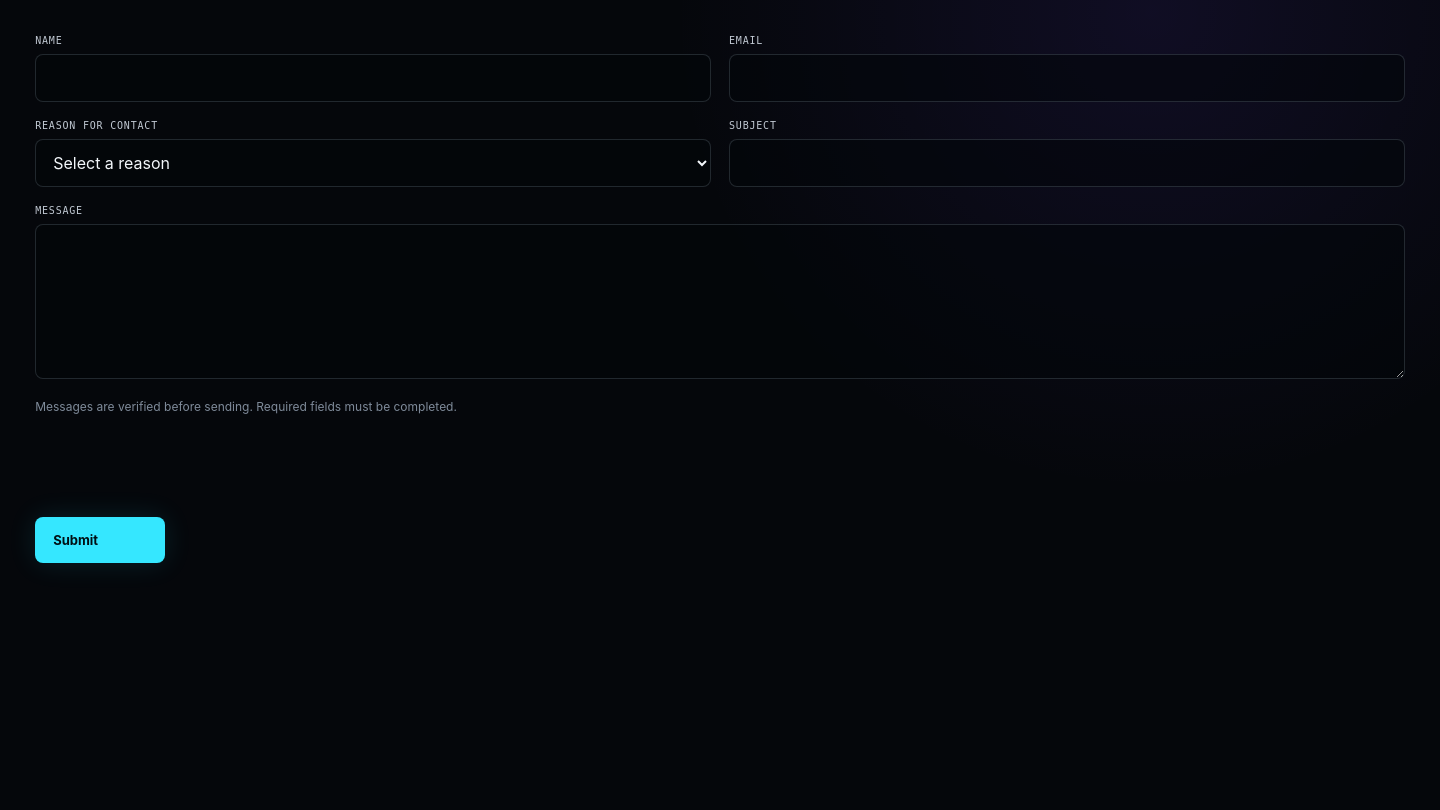
Scenario: ContactForm › normalises values and prevents duplicate in-flight requests
Type "  Paul Tey  " into the field labelled "Name" at {"x": 373, "y": 78}, box x1=35 y1=54 x2=711 y2=102
Type "paul@example.com" into the field labelled "Email" at {"x": 1067, "y": 78}, box x1=729 y1=54 x2=1405 y2=102
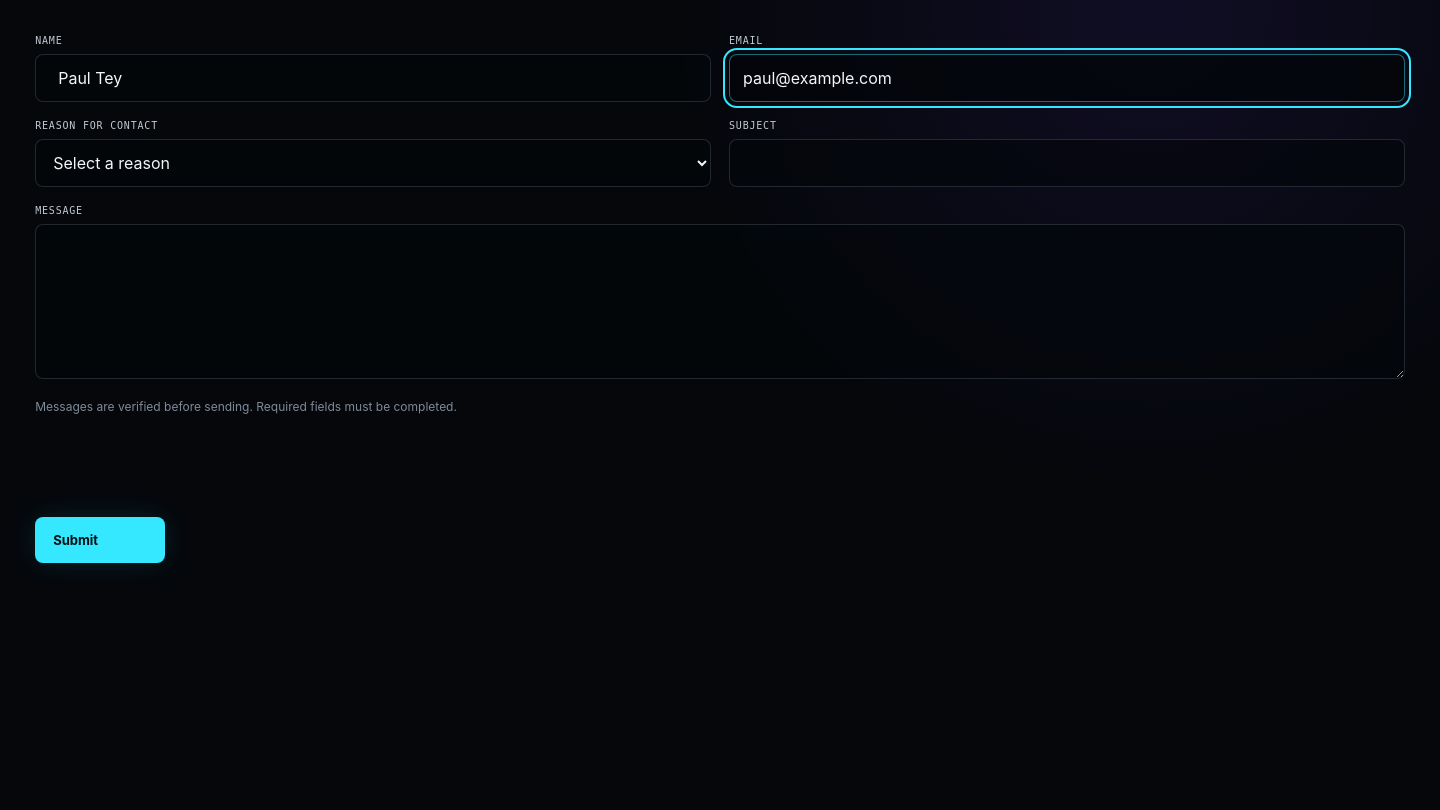
Select "Technical discussion" in the dropdown labelled "Reason for contact" at {"x": 373, "y": 163}, box x1=35 y1=139 x2=711 y2=187
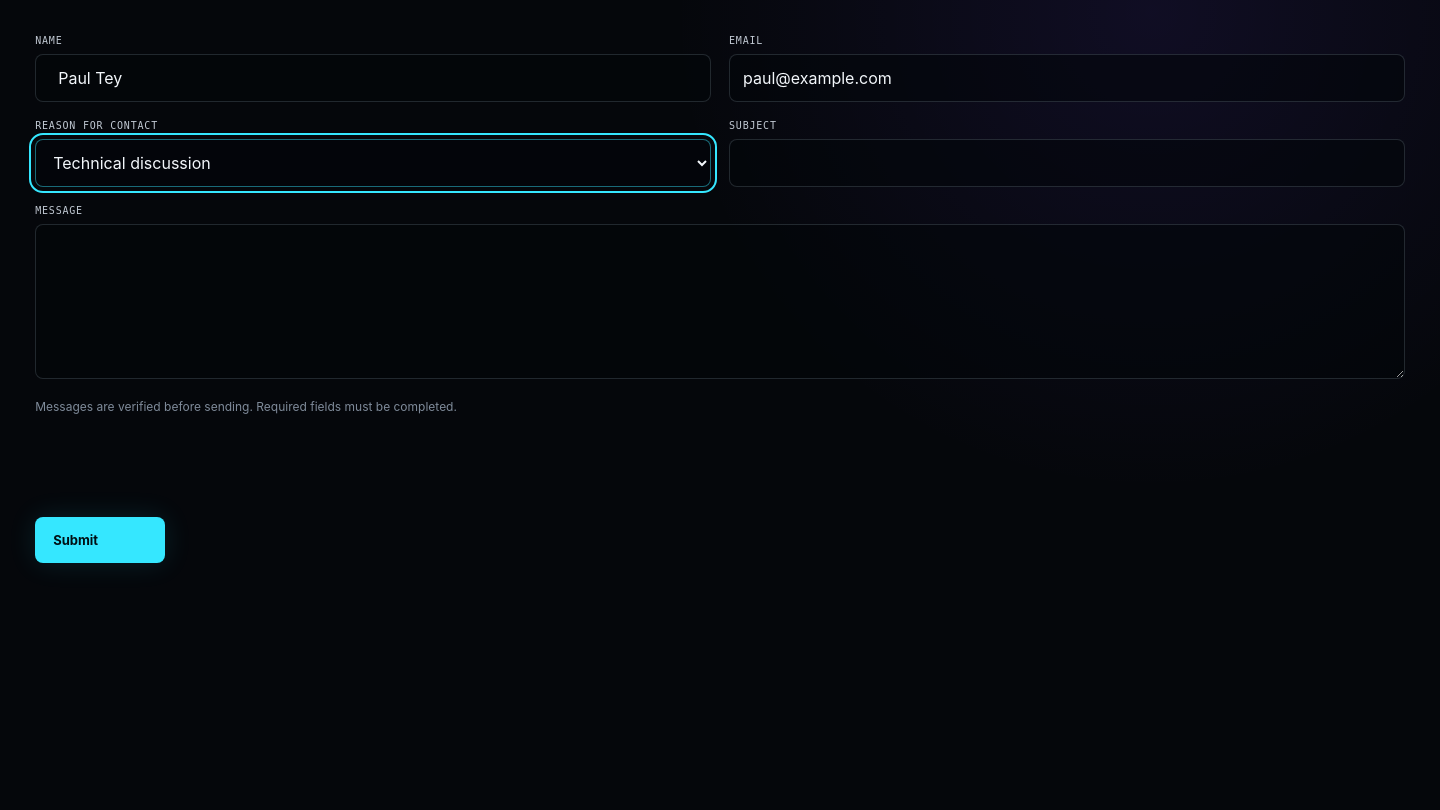
Type "  Portfolio question  " into the field labelled "Subject" at {"x": 1067, "y": 163}, box x1=729 y1=139 x2=1405 y2=187
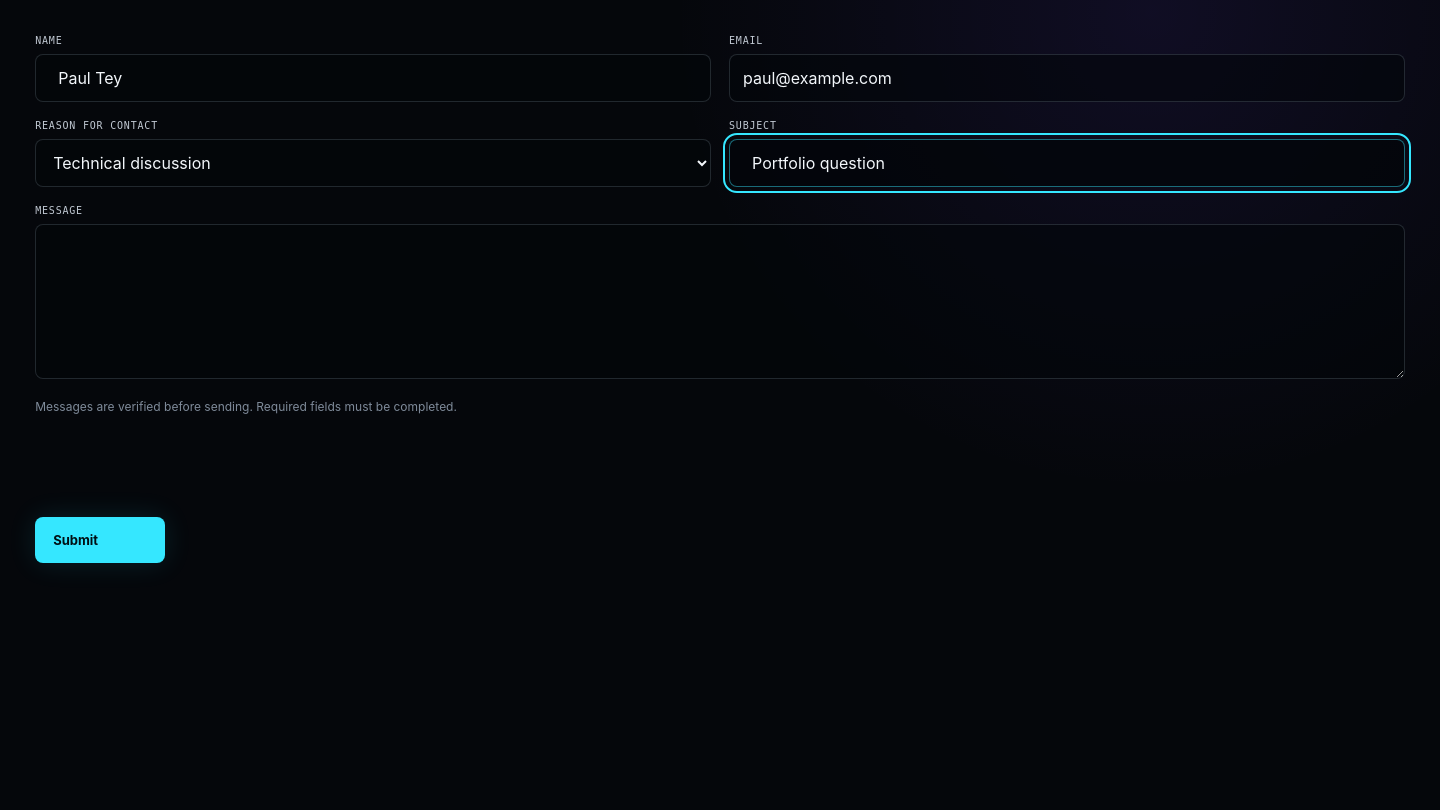
Type "  Test message  " into the text box labelled "Message" at {"x": 720, "y": 302}, box x1=35 y1=224 x2=1405 y2=379
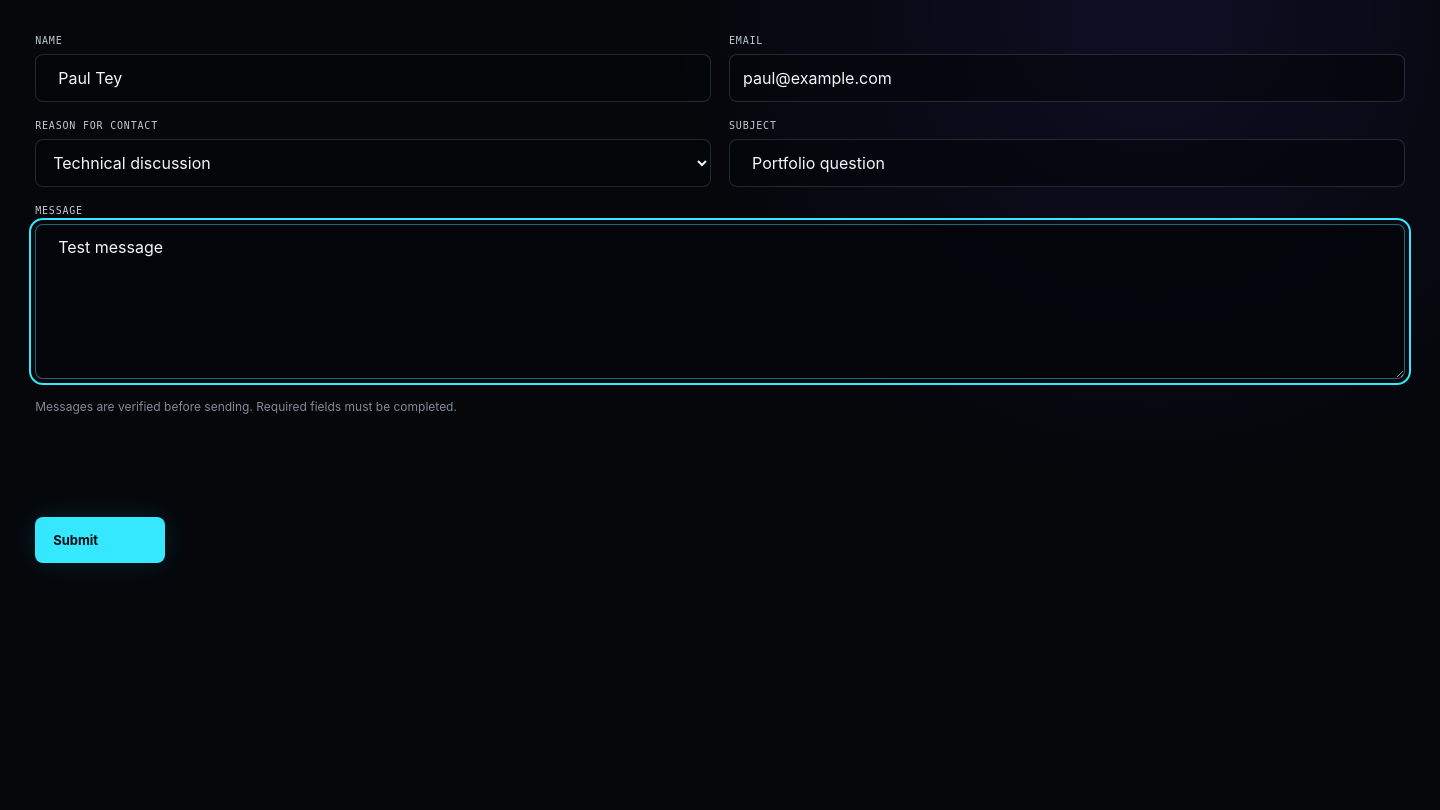
Submit the form named "Submit"
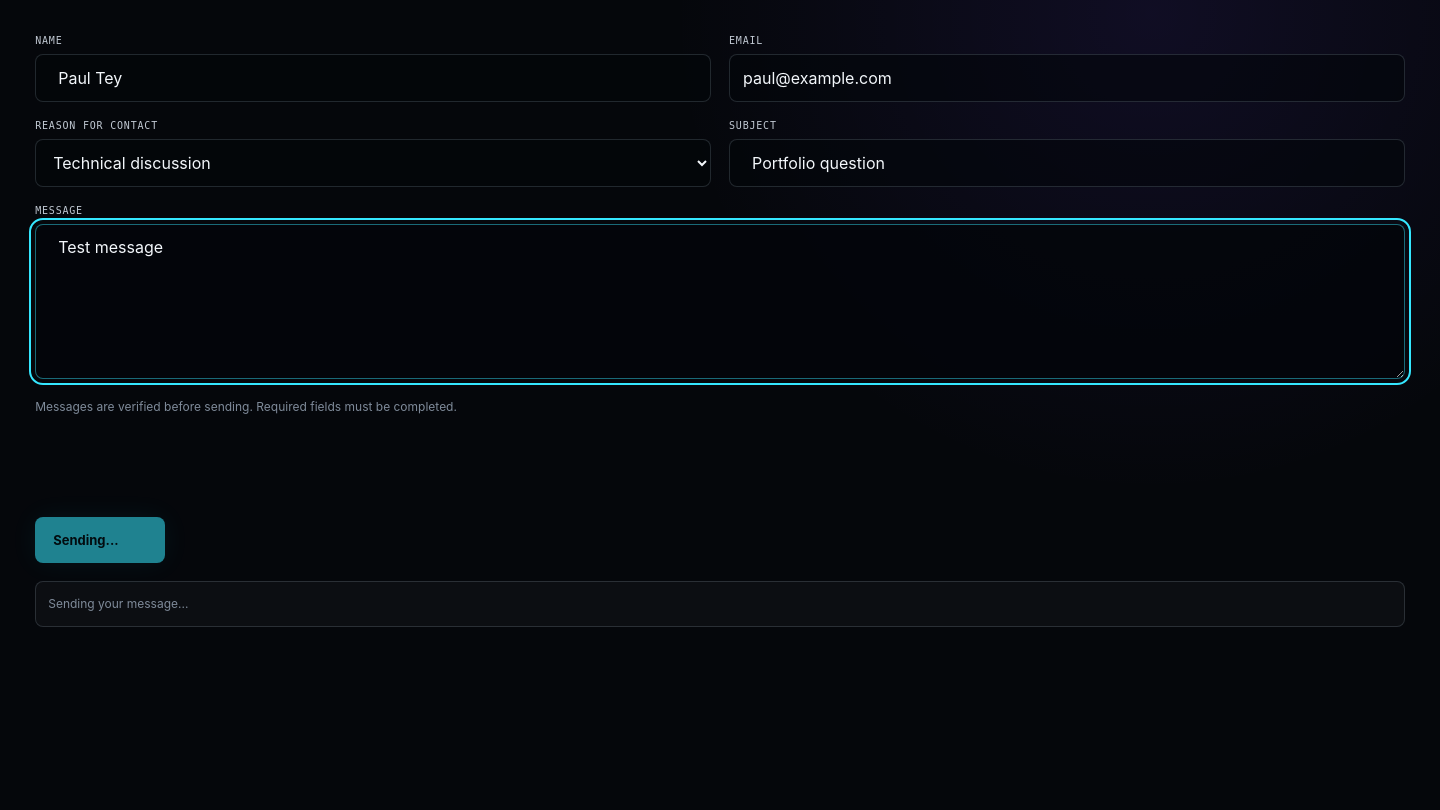
Submit the form named "Submit"
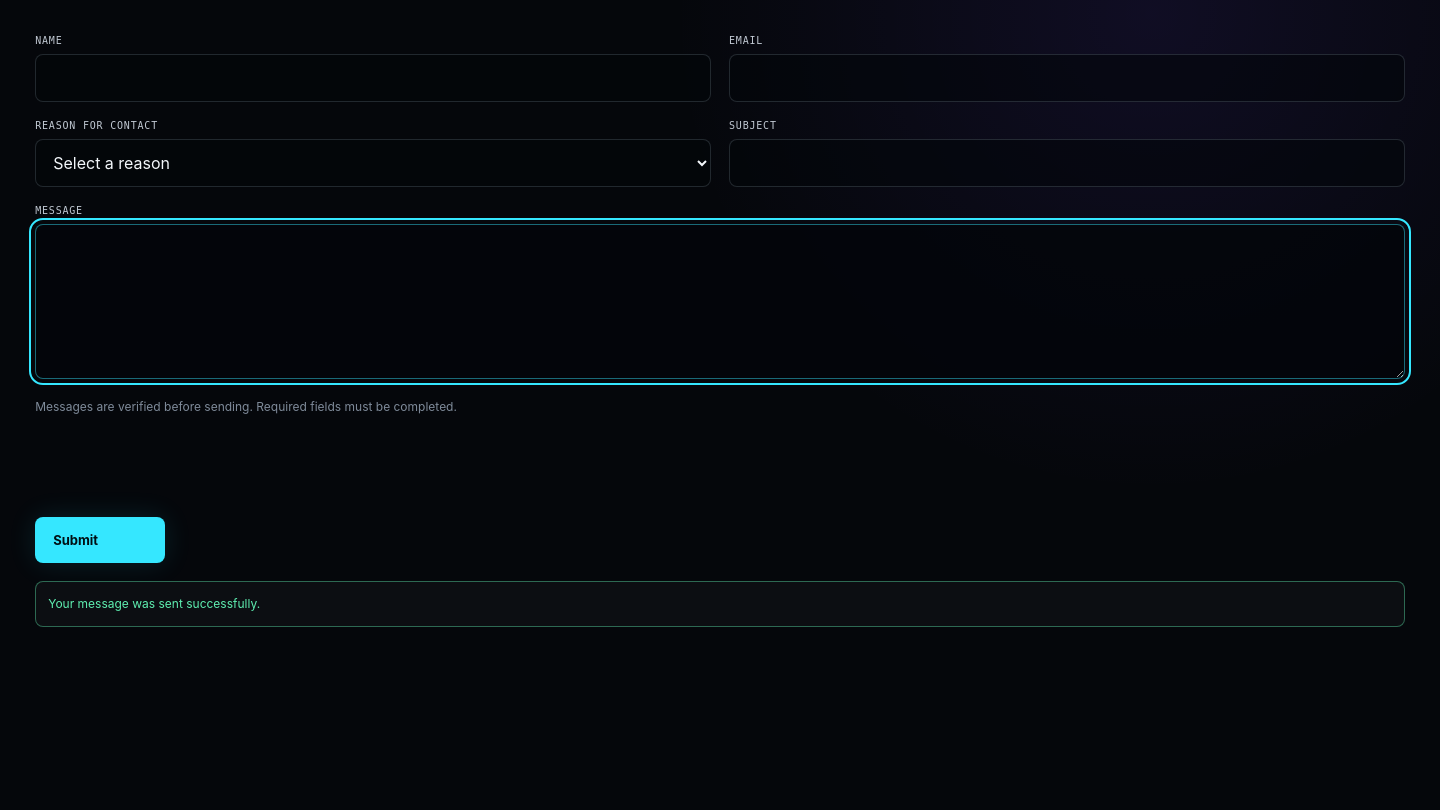
Expected: the text "Your message was sent successfully." is shown, x1=35 y1=581 x2=1405 y2=627
Expected: the field labelled "Name" is empty, x1=35 y1=54 x2=711 y2=102
